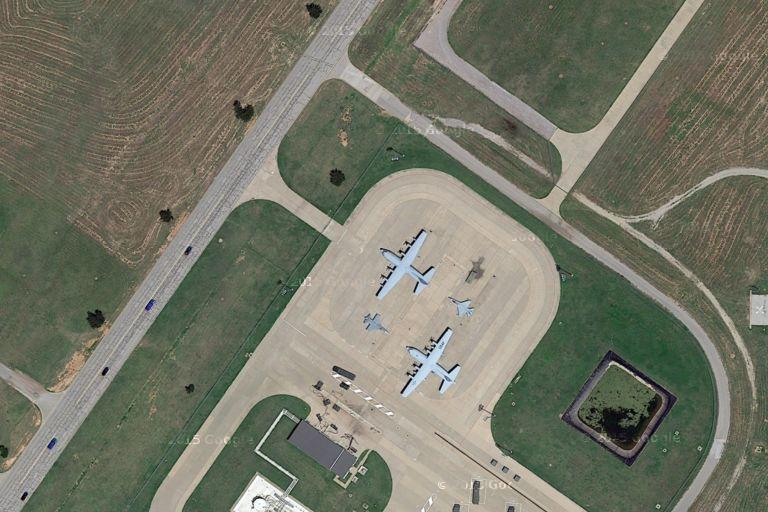C-130: (396, 327, 466, 400), (367, 225, 434, 299)
F-16: (445, 292, 479, 321), (359, 310, 388, 337)
